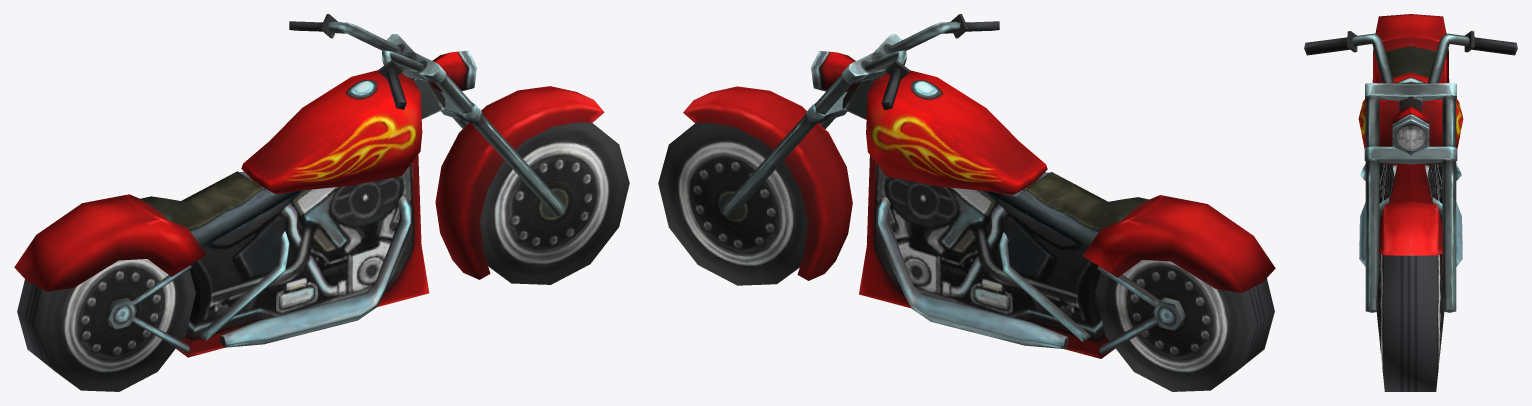
The model's file is motuoche_01.FBX.
The picture shows the model from 3 angles, left to right: view 1: azimuth 30°, elevation 25°; view 2: azimuth 150°, elevation 25°; view 3: azimuth 270°, elevation 25°; orthographic projection. The views are drawn at different scales.
Visible parts, largest first — view 1: motuoche_01; view 2: motuoche_01; view 3: motuoche_01.
Part boxes in pixels (left/top/right/bottom): motuoche_01: left=14, top=14, right=629, bottom=391; motuoche_01: left=658, top=14, right=1275, bottom=391; motuoche_01: left=1304, top=14, right=1517, bottom=391.
Size of the model in its own units: 10.76 by 4.93 by 3.51.
1 material, 1 textured.
